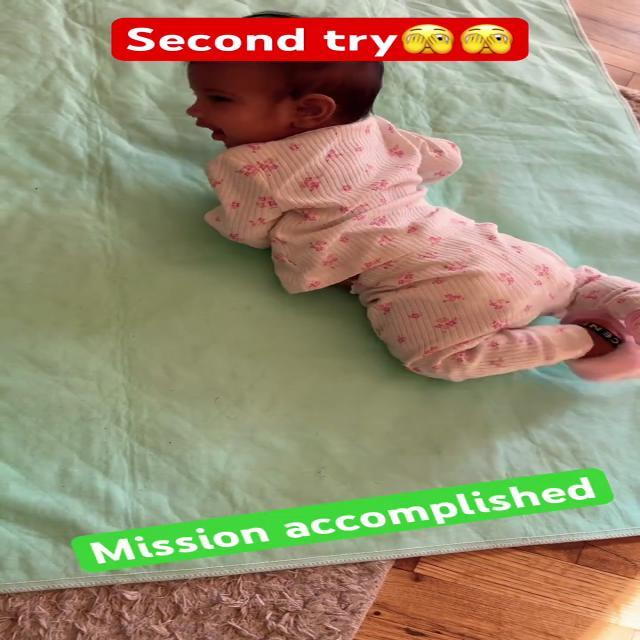baby: (151, 11, 640, 393)
